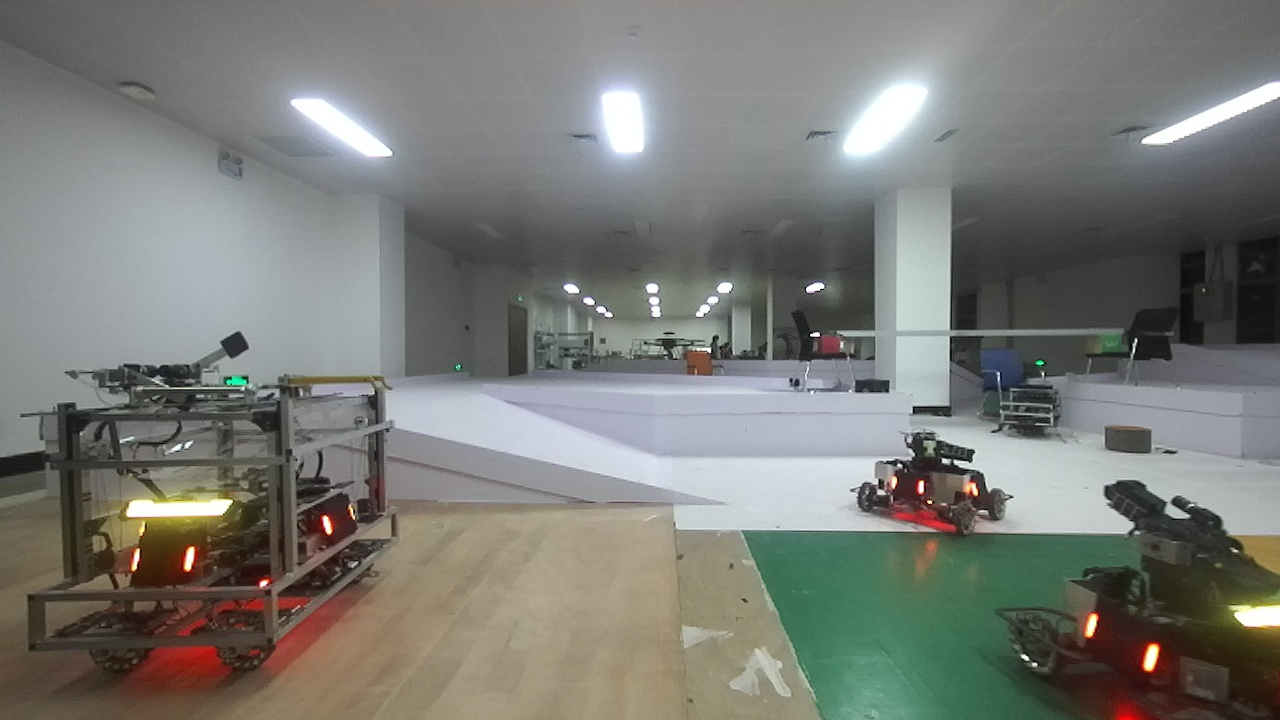car: (15, 327, 408, 687), (1062, 465, 1280, 720), (846, 393, 1000, 554)
